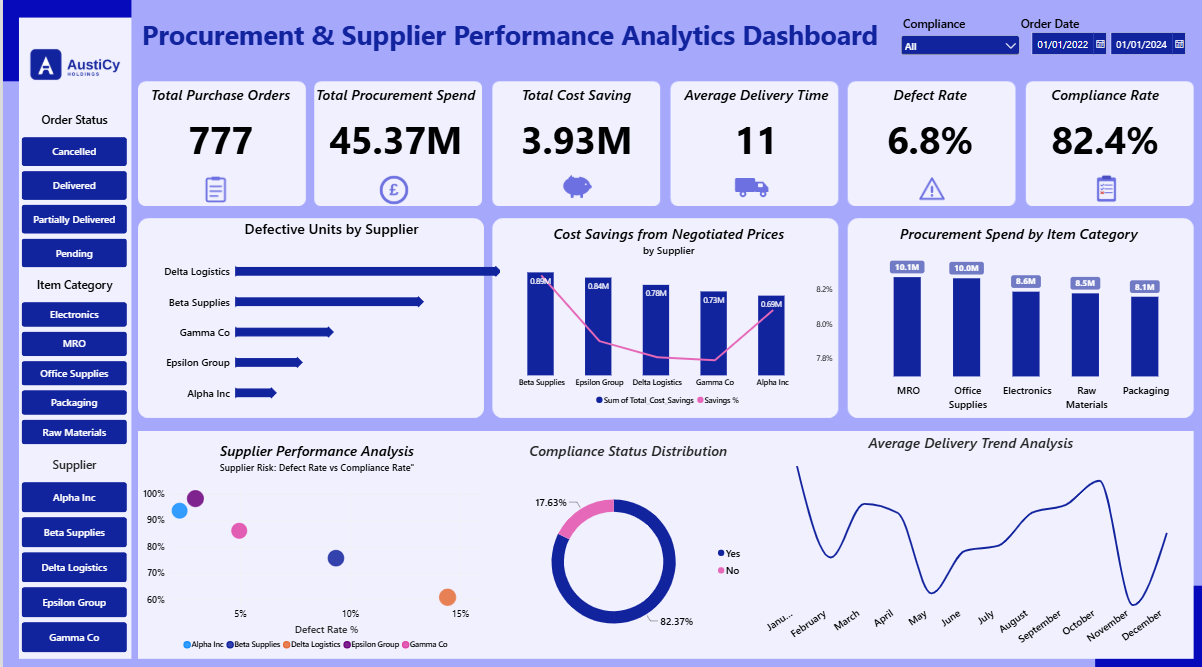

Layout of this report page (visuals, bound fields, positions):
{"tool":"powerbi","page":{"name":"Page 1","canvas":[1920,1080],"ordinal":0},"visuals":[{"type":"cardVisual","title":"Total Purchase Orders","fields":{"Data":["Procurement KPI Analysis Dataset.Total Purchase Orders"]},"box":[208.2,138.8,280.3,138.8],"z":0},{"type":"cardVisual","title":"Total Procurement Spend","fields":{"Data":["Procurement KPI Analysis Dataset.Total Procurement Spend"]},"box":[488.6,138.8,280.3,138.8],"z":1000},{"type":"cardVisual","title":"Total Cost Saving","fields":{"Data":["Procurement KPI Analysis Dataset.Total Cost Savings"]},"box":[768.9,138.8,299,138.8],"z":2000},{"type":"cardVisual","title":"Average Delivery Time","fields":{"Data":["Procurement KPI Analysis Dataset.Average Delivery Time"]},"box":[1067.9,138.8,275,138.8],"z":3000},{"type":"cardVisual","title":"Defect Rate","fields":{"Data":["Procurement KPI Analysis Dataset.Defect Rate %"]},"box":[1342.8,138.8,283,138.8],"z":4000},{"type":"cardVisual","title":"Compliance Rate","fields":{"Data":["Procurement KPI Analysis Dataset.Compliance Rate %"]},"box":[1625.8,138.8,275,138.8],"z":5000},{"type":"image","box":[582.2,277,86.6,58.4],"z":6000},{"type":"image","box":[307.3,279.2,64.9,49.8],"z":7000},{"type":"image","box":[876.5,264,84.4,64.9],"z":8000},{"type":"image","box":[1162.1,266.2,73.6,71.4],"z":9000},{"type":"image","box":[1441.3,281.3,88.7,47.6],"z":10000},{"type":"image","box":[1722.7,277,86.6,51.9],"z":11000},{"type":"clusteredColumnChart","title":"Procurement Spend by Item Category","fields":{"Category":["Procurement KPI Analysis Dataset.Item_Category"],"Y":["Procurement KPI Analysis Dataset.Total Procurement Spend"]},"box":[1344.4,346.7,562.7,333.3],"z":12000},{"type":"clusteredBarChart","title":"Defective Units by Supplier","fields":{"Category":["Procurement KPI Analysis Dataset.Supplier"],"Y":["Sum(Procurement KPI Analysis Dataset.Defective_Units)"]},"box":[207.8,337.6,571.3,341.9],"z":13000},{"type":"donutChart","title":"Compliance Status Distribution","fields":{"Category":["Procurement KPI Analysis Dataset.Compliance"],"Y":["CountNonNull(Procurement KPI Analysis Dataset.Compliance)"]},"box":[796.4,694.7,409,370.1],"z":14000},{"type":"lineClusteredColumnComboChart","title":"Cost Savings from Negotiated Prices","fields":{"Y":["Sum(Procurement KPI Analysis Dataset.Total_Cost_Savings)"],"Category":["Procurement KPI Analysis Dataset.Supplier"],"Y2":["Procurement KPI Analysis Dataset.Savings %"]},"box":[786.7,346.7,558.3,326.8],"z":15000},{"type":"lineChart","title":"Average Delivery Trend Analysis","fields":{"Category":["Procurement KPI Analysis Dataset.Order_Date.Variation.Date Hierarchy.Month"],"Y":["Procurement KPI Analysis Dataset.Average Delivery Time"]},"box":[1198.9,679.5,701.2,385.2],"z":16000},{"type":"scatterChart","title":"Supplier Performance Analysis","fields":{"X":["Procurement KPI Analysis Dataset.Defect Rate %"],"Y":["Procurement KPI Analysis Dataset.Compliance Rate %"],"Series":["Procurement KPI Analysis Dataset.Supplier"],"Size":["CountNonNull(Procurement KPI Analysis Dataset.PO_ID)"]},"box":[207.8,694.7,588.6,370.1],"z":17000},{"type":"advancedSlicerVisual","fields":{"Values":["Procurement KPI Analysis Dataset.Supplier"]},"box":[30.3,733.6,168.8,316],"z":18000},{"type":"advancedSlicerVisual","title":"Item Category","fields":{"Values":["Procurement KPI Analysis Dataset.Item_Category"]},"box":[30.3,445.8,168.8,268.4],"z":19000},{"type":"advancedSlicerVisual","title":"Order Status","fields":{"Values":["Procurement KPI Analysis Dataset.Order_Status"]},"box":[30.3,181.8,168.8,248.9],"z":20000},{"type":"slicer","fields":{"Values":["Procurement KPI Analysis Dataset.Compliance"]},"box":[1432.7,28.1,199.1,86.6],"z":21000},{"type":"slicer","title":"Order Date","fields":{"Values":["Procurement KPI Analysis Dataset.Order_Date"]},"box":[1638.3,49.8,281.3,56.3],"z":22000},{"type":"textbox","box":[1618.8,28.1,261.9,43.3],"z":23000},{"type":"textbox","box":[222.9,28.1,1179.5,86.6],"z":24000},{"type":"image","box":[41.1,26,147.2,160.1],"z":25000}]}

Visuals, with their boxes in screenshot pixels (x1, y1, x2, y2), scaled from the page's 1920x1080 canvas onto the 1202x667 screenshot:
"Total Purchase Orders" cardVisual: box=[130, 86, 306, 171]
"Total Procurement Spend" cardVisual: box=[306, 86, 481, 171]
"Total Cost Saving" cardVisual: box=[481, 86, 669, 171]
"Average Delivery Time" cardVisual: box=[669, 86, 841, 171]
"Defect Rate" cardVisual: box=[841, 86, 1018, 171]
"Compliance Rate" cardVisual: box=[1018, 86, 1190, 171]
image: box=[364, 171, 419, 207]
image: box=[192, 172, 233, 203]
image: box=[549, 163, 602, 203]
image: box=[728, 164, 774, 208]
image: box=[902, 174, 958, 203]
image: box=[1078, 171, 1133, 203]
"Procurement Spend by Item Category" clusteredColumnChart: box=[842, 214, 1194, 420]
"Defective Units by Supplier" clusteredBarChart: box=[130, 208, 488, 420]
"Compliance Status Distribution" donutChart: box=[499, 429, 755, 658]
"Cost Savings from Negotiated Prices" lineClusteredColumnComboChart: box=[493, 214, 842, 416]
"Average Delivery Trend Analysis" lineChart: box=[751, 420, 1190, 658]
"Supplier Performance Analysis" scatterChart: box=[130, 429, 499, 658]
advancedSlicerVisual - Procurement KPI Analysis Dataset.Supplier: box=[19, 453, 125, 648]
"Item Category" advancedSlicerVisual: box=[19, 275, 125, 441]
"Order Status" advancedSlicerVisual: box=[19, 112, 125, 266]
slicer - Procurement KPI Analysis Dataset.Compliance: box=[897, 17, 1022, 71]
"Order Date" slicer: box=[1026, 31, 1201, 66]
textbox: box=[1013, 17, 1177, 44]
textbox: box=[140, 17, 878, 71]
image: box=[26, 16, 118, 115]
